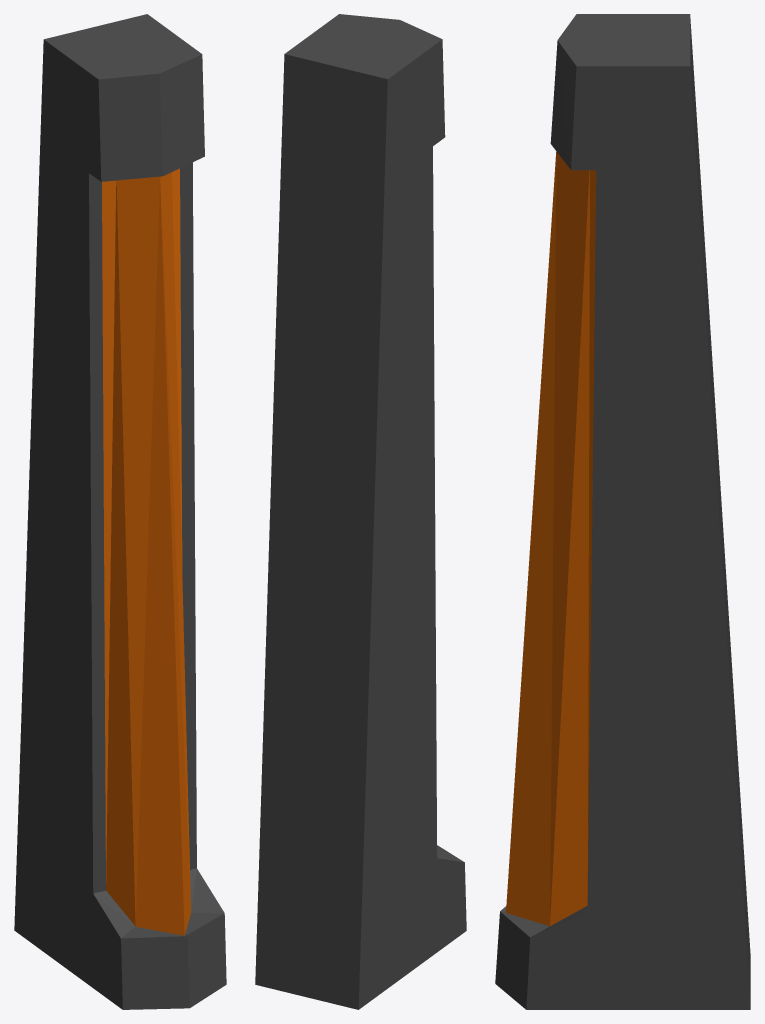
The model's file is secondsealedsword_nal.obj.
The picture shows the model from 3 angles, left to right: view 1: azimuth 30°, elevation 25°; view 2: azimuth 150°, elevation 25°; view 3: azimuth 270°, elevation 25°; orthographic projection. The views are drawn at different scales.
Visible parts, largest first — view 1: Cube; view 2: Cube; view 3: Cube.
Part boxes in pixels (x1,y1,x2,y2): Cube: (14, 14, 226, 1009); Cube: (255, 14, 466, 1009); Cube: (495, 14, 750, 1009).
Size of the model in its own units: 1 by 8.43 by 2.07.
